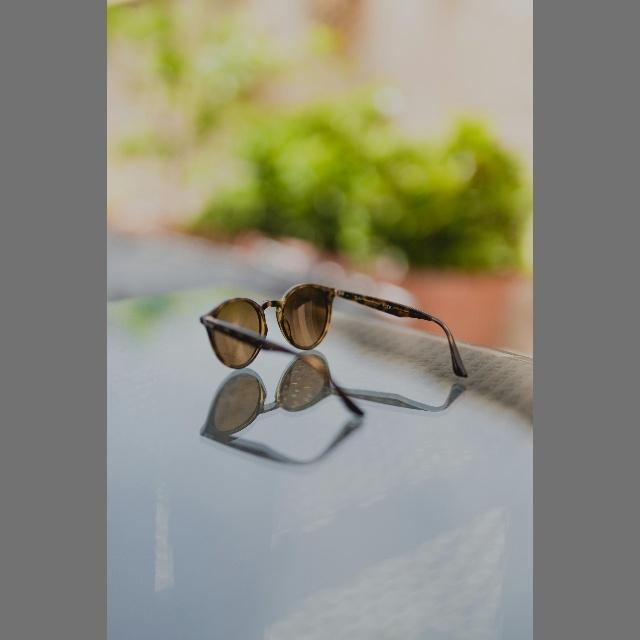Sunglasses: (189, 281, 401, 403)
